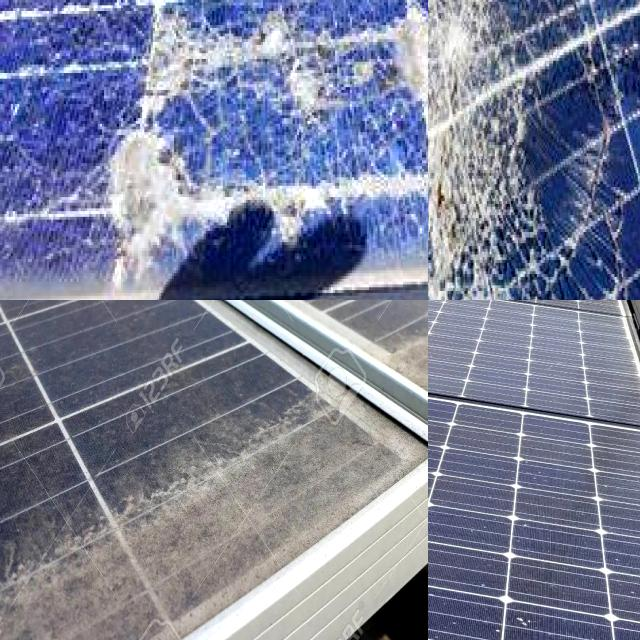dust: (230, 341, 420, 526), (0, 300, 187, 420), (0, 555, 166, 640), (283, 300, 428, 383), (0, 300, 201, 343), (200, 300, 404, 320)
hotspot: (104, 134, 428, 293), (133, 0, 428, 132), (428, 0, 535, 300)
